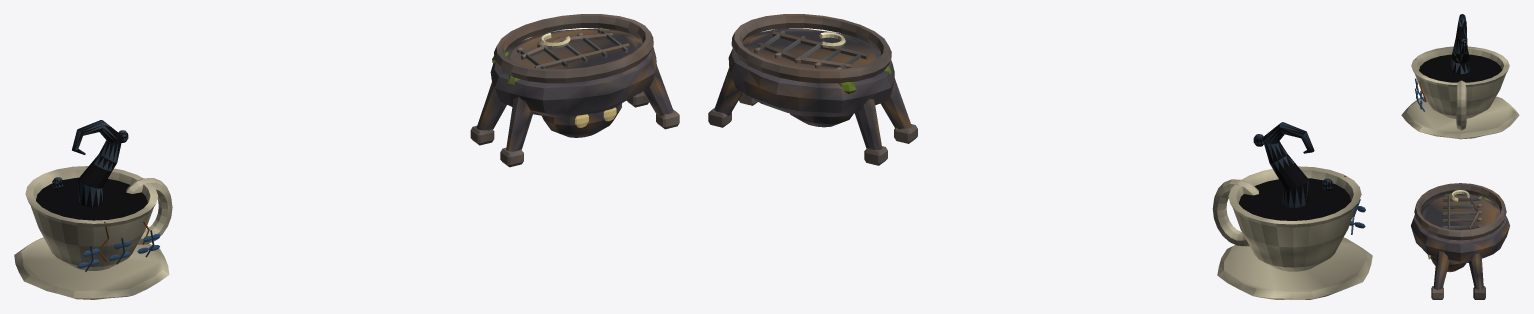
The model's file is batch01-revision02.fbx.
3 renders of one model, left to right at view 1: azimuth 30°, elevation 25°; view 2: azimuth 150°, elevation 25°; view 3: azimuth 270°, elevation 25°, orthographic. The views are drawn at different scales.
Visible parts, largest first — view 1: coin_crawler, cold_teacup; view 2: cold_teacup, coin_crawler; view 3: cold_teacup, coin_crawler.
Boxes of the visible parts, bbox=[...] form: coin_crawler: bbox=[470, 14, 679, 167]; cold_teacup: bbox=[14, 120, 172, 299]; cold_teacup: bbox=[1212, 122, 1372, 299]; coin_crawler: bbox=[708, 14, 917, 165]; cold_teacup: bbox=[1401, 14, 1519, 139]; coin_crawler: bbox=[1411, 183, 1509, 299].
Bounding box in the file's own units: 21.4 × 4.9 × 4.88.
